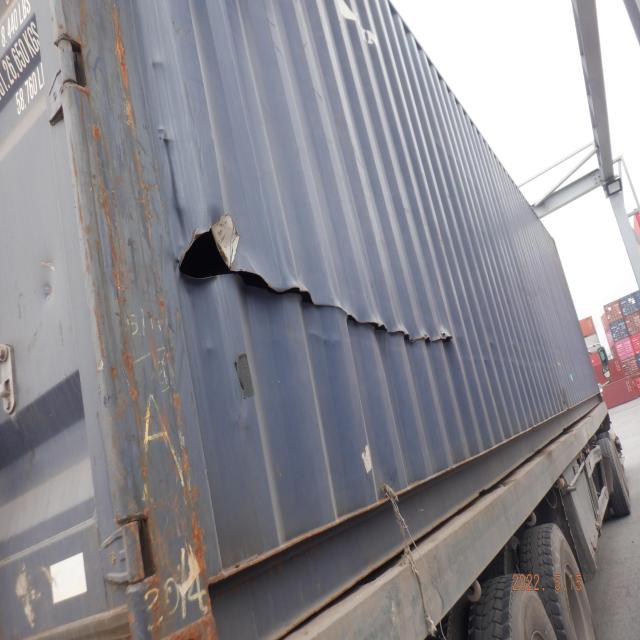hole: (170, 227, 270, 295), (347, 316, 465, 348), (280, 287, 321, 309)
